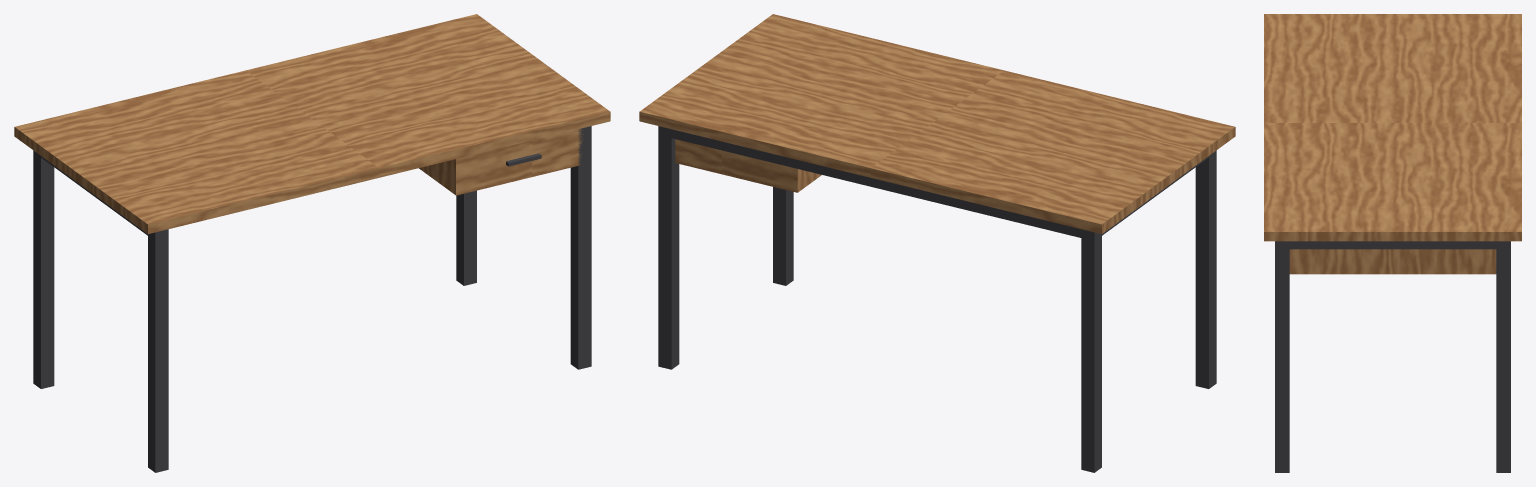
The picture shows the model from 3 angles, left to right: view 1: azimuth 30°, elevation 25°; view 2: azimuth 150°, elevation 25°; view 3: azimuth 270°, elevation 25°; orthographic projection. The views are drawn at different scales.
Visible parts, largest first — view 1: Desk, oak and steel; view 2: Desk, oak and steel; view 3: Desk, oak and steel.
Boxes of the visible parts, x1=… form: Desk, oak and steel: x1=14, y1=14, x2=610, y2=472; Desk, oak and steel: x1=639, y1=14, x2=1235, y2=472; Desk, oak and steel: x1=1264, y1=14, x2=1521, y2=472.
Bounding box in the file's own units: 1.4 × 0.74 × 0.7.
2 materials, 1 textured.
